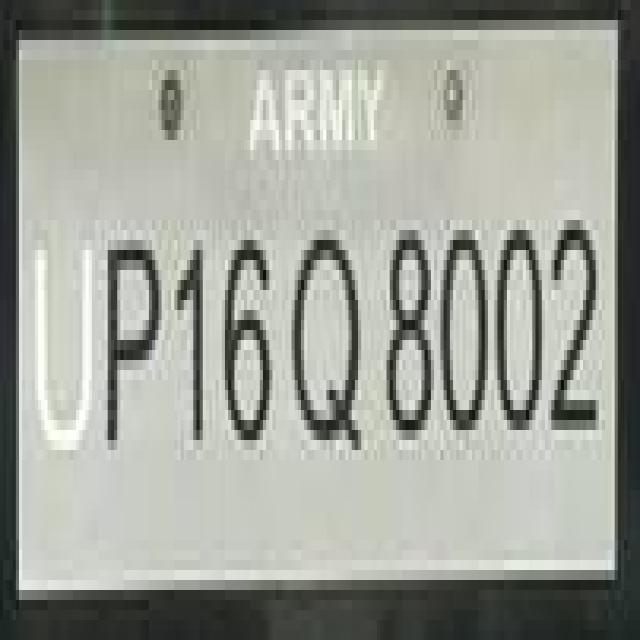license_plate: (0, 20, 618, 600)
